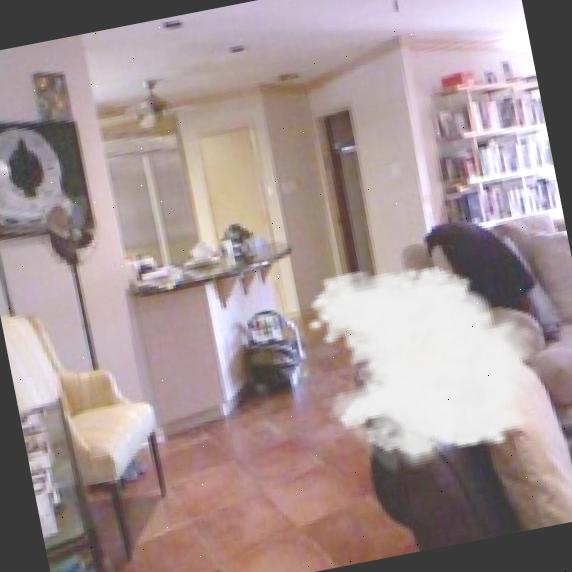smoke: (297, 235, 566, 490)
